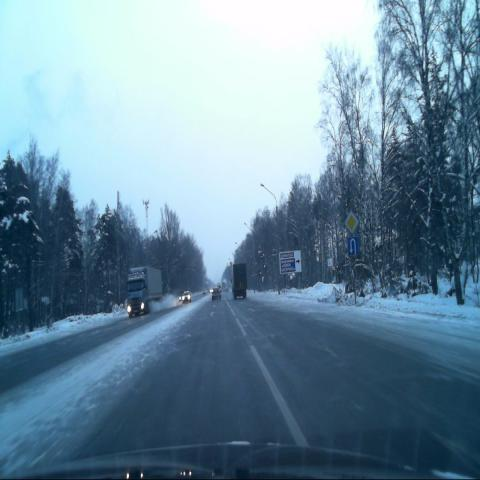6_3_1: (346, 237, 359, 257)
